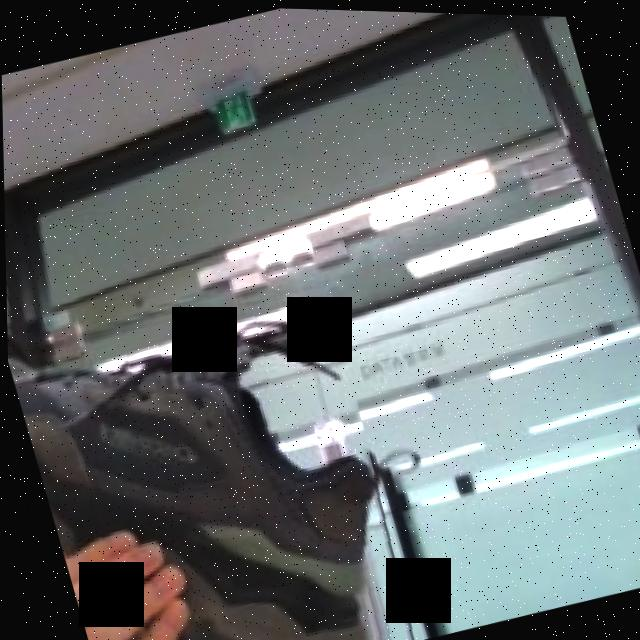shoe: (5, 266, 427, 640)
